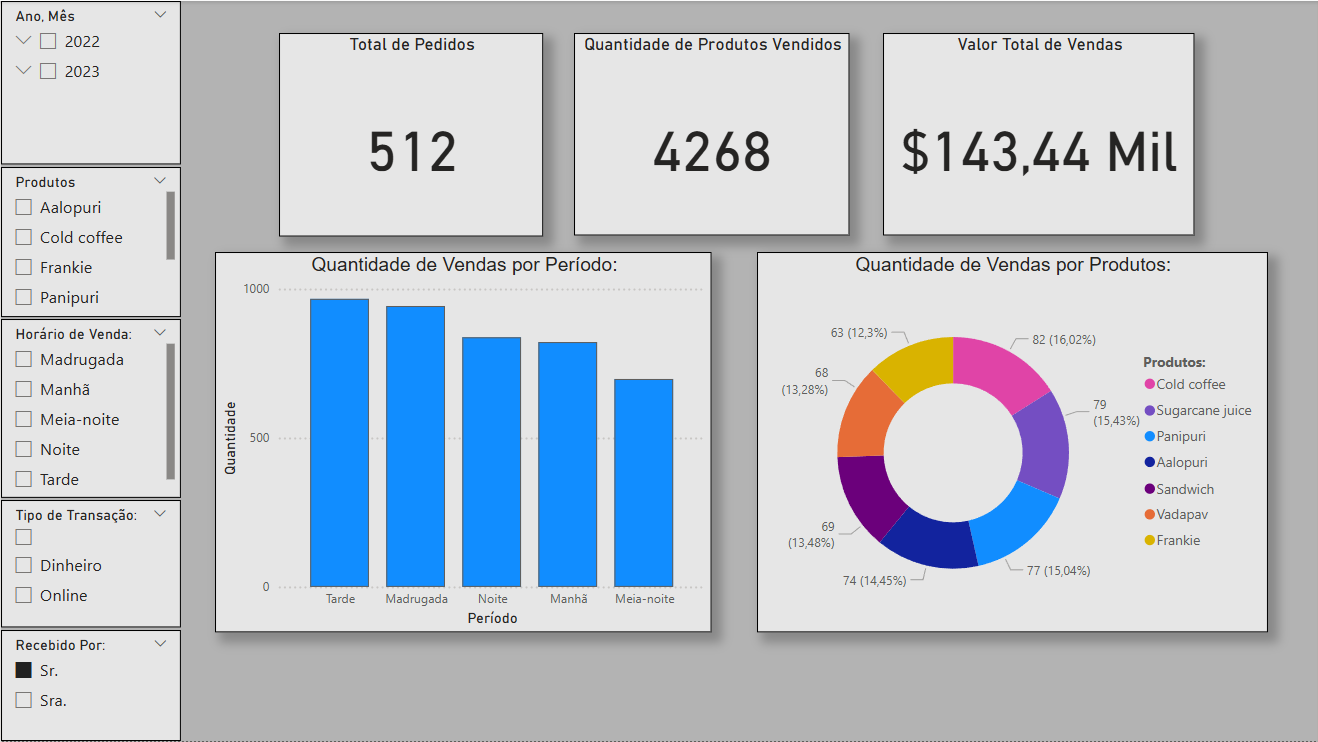

Layout of this report page (visuals, bound fields, positions):
{"tool":"powerbi","page":{"name":"Filtros Simples","canvas":[1280,720],"ordinal":1},"visuals":[{"type":"slicer","fields":{"Values":["Balaji Fast Food Sales.Período Formatado"]},"box":[0,309.5,174.7,173.8],"z":0},{"type":"card","title":"Total de Pedidos","fields":{"Values":["CountNonNull(Balaji Fast Food Sales.order_id)"]},"box":[270.4,31,257.1,197.7],"z":1000},{"type":"card","title":"Valor Total de Vendas","fields":{"Values":["Sum(Balaji Fast Food Sales.transaction_amount)"]},"box":[857.9,31.1,303.5,197.4],"z":2000},{"type":"card","title":"Quantidade de Produtos Vendidos","fields":{"Values":["Sum(Balaji Fast Food Sales.quantity)"]},"box":[557.3,31.1,268.4,197.4],"z":3000},{"type":"slicer","fields":{"Values":["Balaji Fast Food Sales.Tipo_Transacao"]},"box":[0,485,174.7,124.1],"z":4000},{"type":"slicer","fields":{"Values":["Balaji Fast Food Sales.Recebido_Por"]},"box":[0,611.8,175.1,108],"z":5000},{"type":"slicer","fields":{"Values":["Balaji Fast Food Sales.date.Variation.Hierarquia de datas.Ano","Balaji Fast Food Sales.date.Variation.Hierarquia de datas.Mês"]},"box":[0,0,175.1,158.5],"z":6000},{"type":"columnChart","title":"Quantidade de Vendas por Período:","fields":{"Category":["Balaji Fast Food Sales.Período Formatado"],"Y":["Sum(Balaji Fast Food Sales.quantity)"]},"box":[208.4,243.8,483.3,369.8],"z":7000},{"type":"slicer","fields":{"Values":["Balaji Fast Food Sales.item_name"]},"box":[0,161.4,174.7,146.3],"z":8000},{"type":"donutChart","title":"Quantidade de Vendas por Produtos:","fields":{"Category":["Balaji Fast Food Sales.item_name"],"Y":["CountNonNull(Balaji Fast Food Sales.quantity)"]},"box":[735.1,243.8,496.6,369.8],"z":9000}]}

Visuals, with their boxes on the page's 1280x720 design canvas (x1, y1, x2, y2). These are canvas units, not pixel positions in the 1318x742 screenshot, which may show the page scaled, cropped or inside an application window:
slicer - Balaji Fast Food Sales.Período Formatado: (x1=0, y1=310, x2=175, y2=483)
"Total de Pedidos" card: (x1=270, y1=31, x2=528, y2=229)
"Valor Total de Vendas" card: (x1=858, y1=31, x2=1161, y2=228)
"Quantidade de Produtos Vendidos" card: (x1=557, y1=31, x2=826, y2=228)
slicer - Balaji Fast Food Sales.Tipo_Transacao: (x1=0, y1=485, x2=175, y2=609)
slicer - Balaji Fast Food Sales.Recebido_Por: (x1=0, y1=612, x2=175, y2=720)
slicer - Balaji Fast Food Sales.date.Variation.Hierarquia de datas.Ano x Balaji Fast Food Sales.date.Variation.Hierarquia de datas.Mês: (x1=0, y1=0, x2=175, y2=158)
"Quantidade de Vendas por Período:" columnChart: (x1=208, y1=244, x2=692, y2=614)
slicer - Balaji Fast Food Sales.item_name: (x1=0, y1=161, x2=175, y2=308)
"Quantidade de Vendas por Produtos:" donutChart: (x1=735, y1=244, x2=1232, y2=614)
